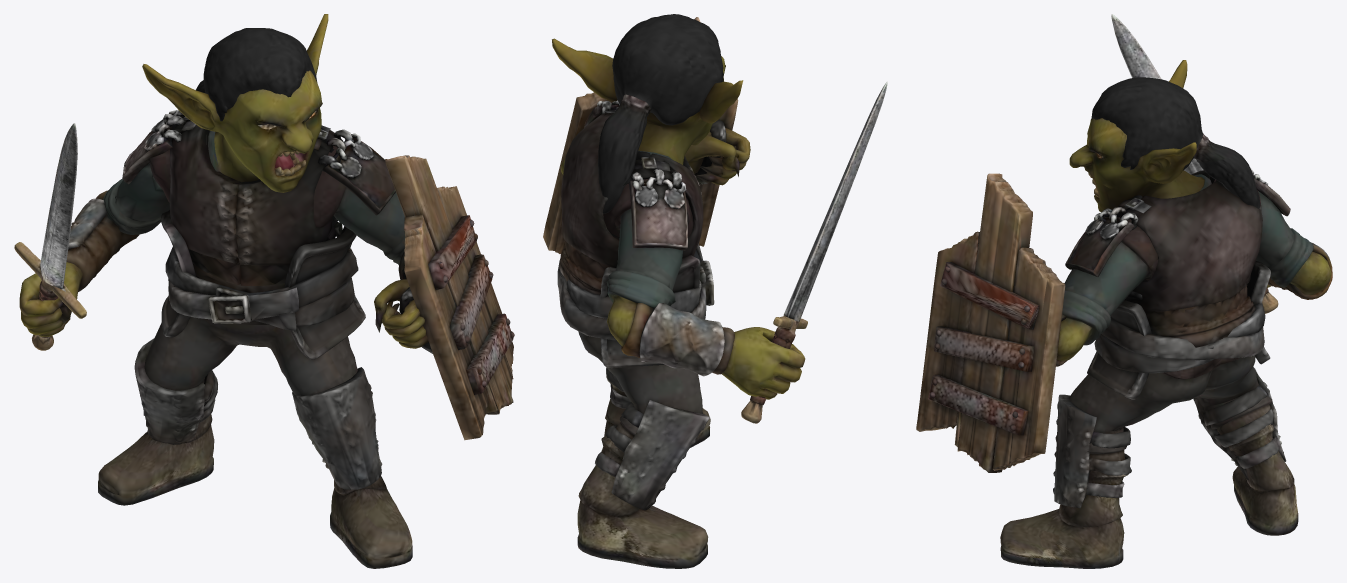
The model's file is MZ4250 - Goblin Warrior_melee_sword 2025.glb.
3 views of the same model, side by side, from view 1: azimuth 30°, elevation 25°; view 2: azimuth 150°, elevation 25°; view 3: azimuth 270°, elevation 25° (orthographic). The views are drawn at different scales.
Parts seen in each view (by area): view 1: Armor.005; view 2: Armor.005; view 3: Armor.005.
Boxes of the visible parts, x1,y1,x2,y2 form: Armor.005: (14, 14, 514, 568); Armor.005: (543, 14, 887, 568); Armor.005: (916, 14, 1332, 568).
Size of the model in its own units: 65.97 by 77.45 by 65.62.
5 materials, 5 textured.
